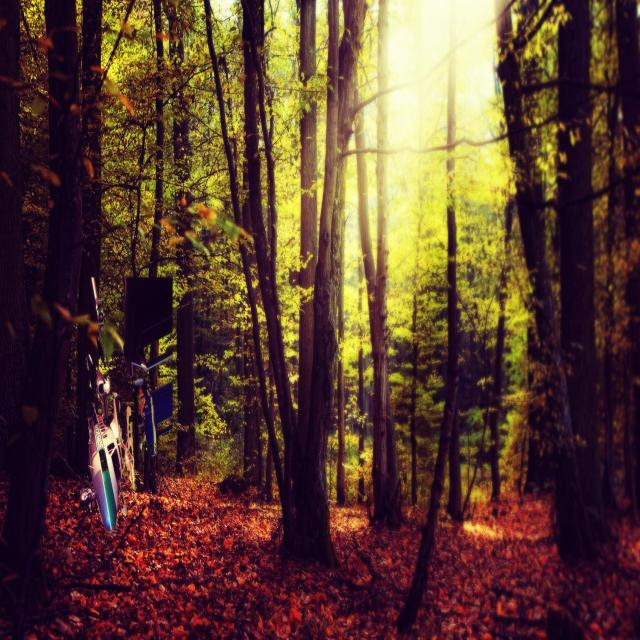airplane: (80, 353, 136, 530), (138, 362, 172, 460)
